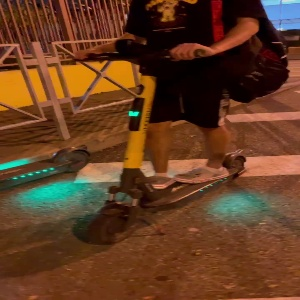human on a scooter: (68, 1, 291, 244)
